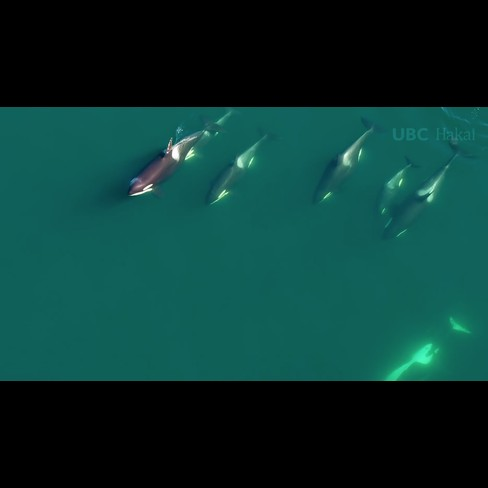orca: (378, 121, 479, 247), (118, 112, 233, 204), (307, 113, 393, 213), (201, 127, 279, 211), (371, 149, 423, 219)
